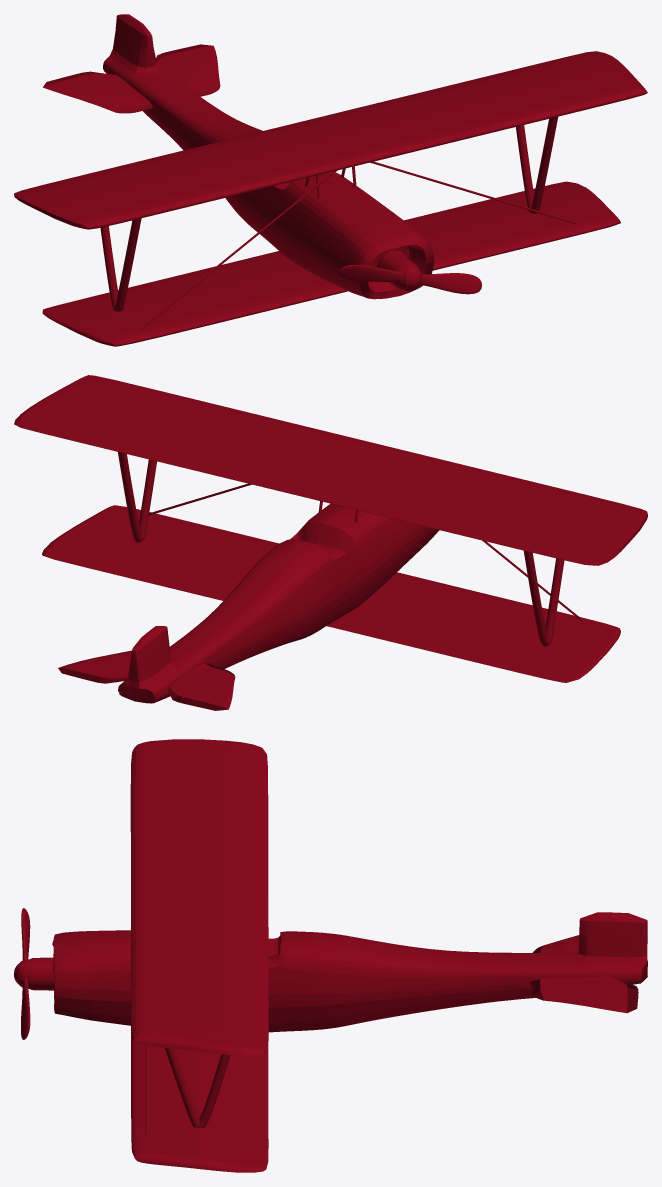
File: biplane.obj
3 views of the same model, one above another, from view 1: azimuth 30°, elevation 25°; view 2: azimuth 150°, elevation 25°; view 3: azimuth 270°, elevation 25° (orthographic). The views are drawn at different scales.
Visible parts, largest first — view 1: Plane1; view 2: Plane1; view 3: Plane1.
Part boxes in pixels (x1=…): Plane1: x1=14, y1=14, x2=647, y2=346; Plane1: x1=14, y1=375, x2=647, y2=710; Plane1: x1=14, y1=739, x2=647, y2=1172.
Bounding box in the file's own units: 7.88 × 1.71 × 6.82.
